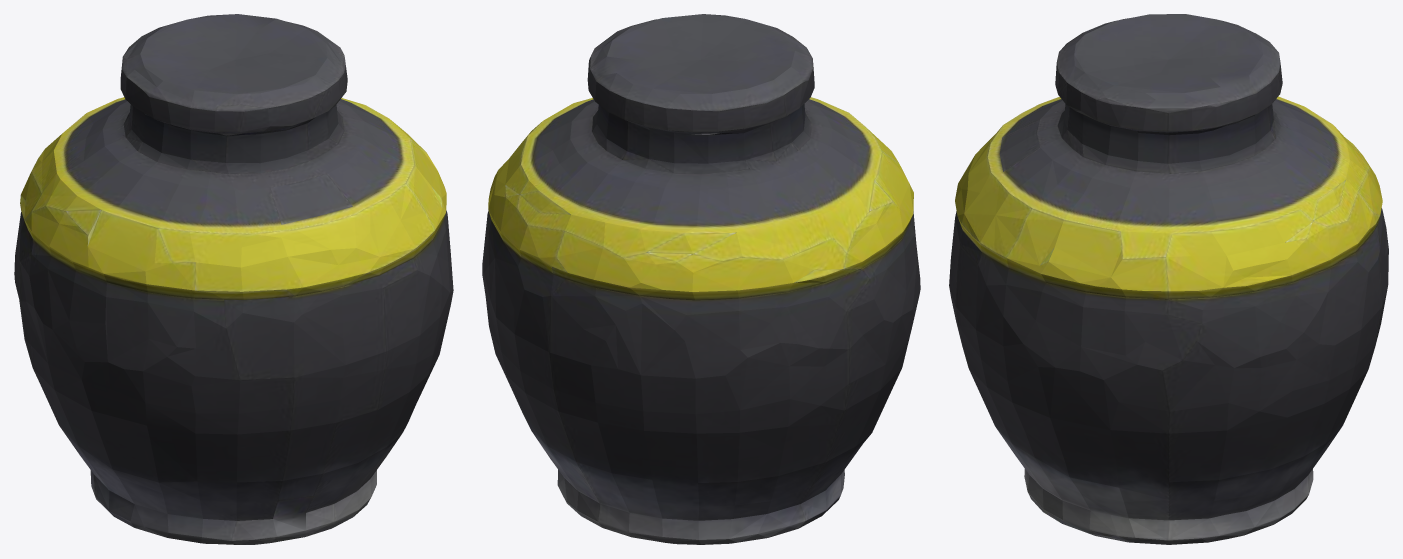
Rendered from urn_burning.glb.
3 renders of one model, left to right at view 1: azimuth 30°, elevation 25°; view 2: azimuth 150°, elevation 25°; view 3: azimuth 270°, elevation 25°, orthographic.
Visible parts, largest first — view 1: tripo_node_c4c60e5e-f0d1-4263-9d4f-2125fb3e210f.001; view 2: tripo_node_c4c60e5e-f0d1-4263-9d4f-2125fb3e210f.001; view 3: tripo_node_c4c60e5e-f0d1-4263-9d4f-2125fb3e210f.001.
Part boxes in pixels (box(x1,y1,x2,y2)): tripo_node_c4c60e5e-f0d1-4263-9d4f-2125fb3e210f.001: box(14, 14, 453, 544); tripo_node_c4c60e5e-f0d1-4263-9d4f-2125fb3e210f.001: box(482, 14, 920, 544); tripo_node_c4c60e5e-f0d1-4263-9d4f-2125fb3e210f.001: box(949, 14, 1388, 544).
Size of the model in its own units: 0.917 by 1 by 0.912.
1 material, 1 textured.
